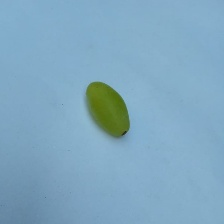grapes: (20, 57, 212, 195)
